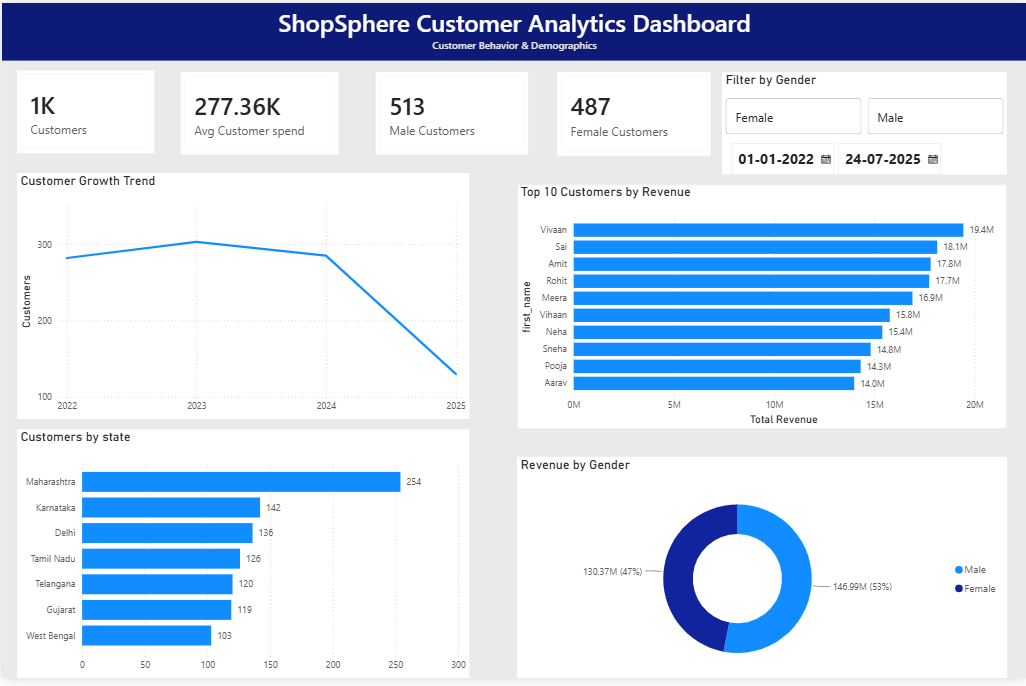

This screenshot's page, from the dashboard's own definition file:
{"tool":"powerbi","page":{"name":"Customer Analytics","canvas":[1366,900],"ordinal":3},"visuals":[{"type":"textbox","box":[0,0,1366.7,76.7],"z":0},{"type":"cardVisual","fields":{"Data":["CountNonNull(Customers.customer_id)"]},"box":[20,90,183.3,110],"z":1000},{"type":"cardVisual","fields":{"Data":["Categories.Avg Customer spend"]},"box":[238.3,91.7,210,110],"z":2000},{"type":"lineChart","title":"Customer Growth Trend","fields":{"Category":["Customers.join_date.Variation.Date Hierarchy.Year","Customers.join_date.Variation.Date Hierarchy.Month"],"Y":["CountNonNull(Customers.customer_id)"]},"box":[20,226.7,603.3,328.3],"z":3000},{"type":"donutChart","title":"Revenue by Gender","fields":{"Category":["Customers.gender"],"Y":["Order_Items.Total Revenue"]},"box":[686.7,605,653.3,295],"z":4000},{"type":"barChart","title":"Top 10 Customers by Revenue","fields":{"Category":["Customers.first_name"],"Y":["Order_Items.Total Revenue"]},"box":[686.7,241.7,653.3,326.7],"z":5000},{"type":"barChart","title":"Customers by state","fields":{"Category":["Customers.state"],"Y":["Customers.Total Customers"]},"box":[20,568.3,603.3,331.7],"z":6000},{"type":"advancedSlicerVisual","title":"Filter by Gender","fields":{"Values":["Customers.gender"]},"box":[960,91.7,380,88.3],"z":7000},{"type":"slicer","fields":{"Values":["Customers.join_date"]},"box":[960,176.7,380,51.7],"z":8000},{"type":"cardVisual","fields":{"Data":["Categories.Male Customers"]},"box":[498.3,91.7,203.3,110],"z":9000},{"type":"cardVisual","fields":{"Data":["Categories.Female Customers"]},"box":[740,91.7,205,111.7],"z":10000}]}

Visuals, with their boxes in screenshot pixels (x1, y1, x2, y2), scaled from the page's 1366x900 canvas onto the 1026x686 screenshot:
textbox: left=0, top=0, right=1025, bottom=58
cardVisual - CountNonNull(Customers.customer_id): left=15, top=69, right=153, bottom=152
cardVisual - Categories.Avg Customer spend: left=179, top=70, right=337, bottom=154
"Customer Growth Trend" lineChart: left=15, top=173, right=468, bottom=423
"Revenue by Gender" donutChart: left=516, top=461, right=1006, bottom=685
"Top 10 Customers by Revenue" barChart: left=516, top=184, right=1006, bottom=433
"Customers by state" barChart: left=15, top=433, right=468, bottom=685
"Filter by Gender" advancedSlicerVisual: left=721, top=70, right=1006, bottom=137
slicer - Customers.join_date: left=721, top=135, right=1006, bottom=174
cardVisual - Categories.Male Customers: left=374, top=70, right=527, bottom=154
cardVisual - Categories.Female Customers: left=556, top=70, right=710, bottom=155
